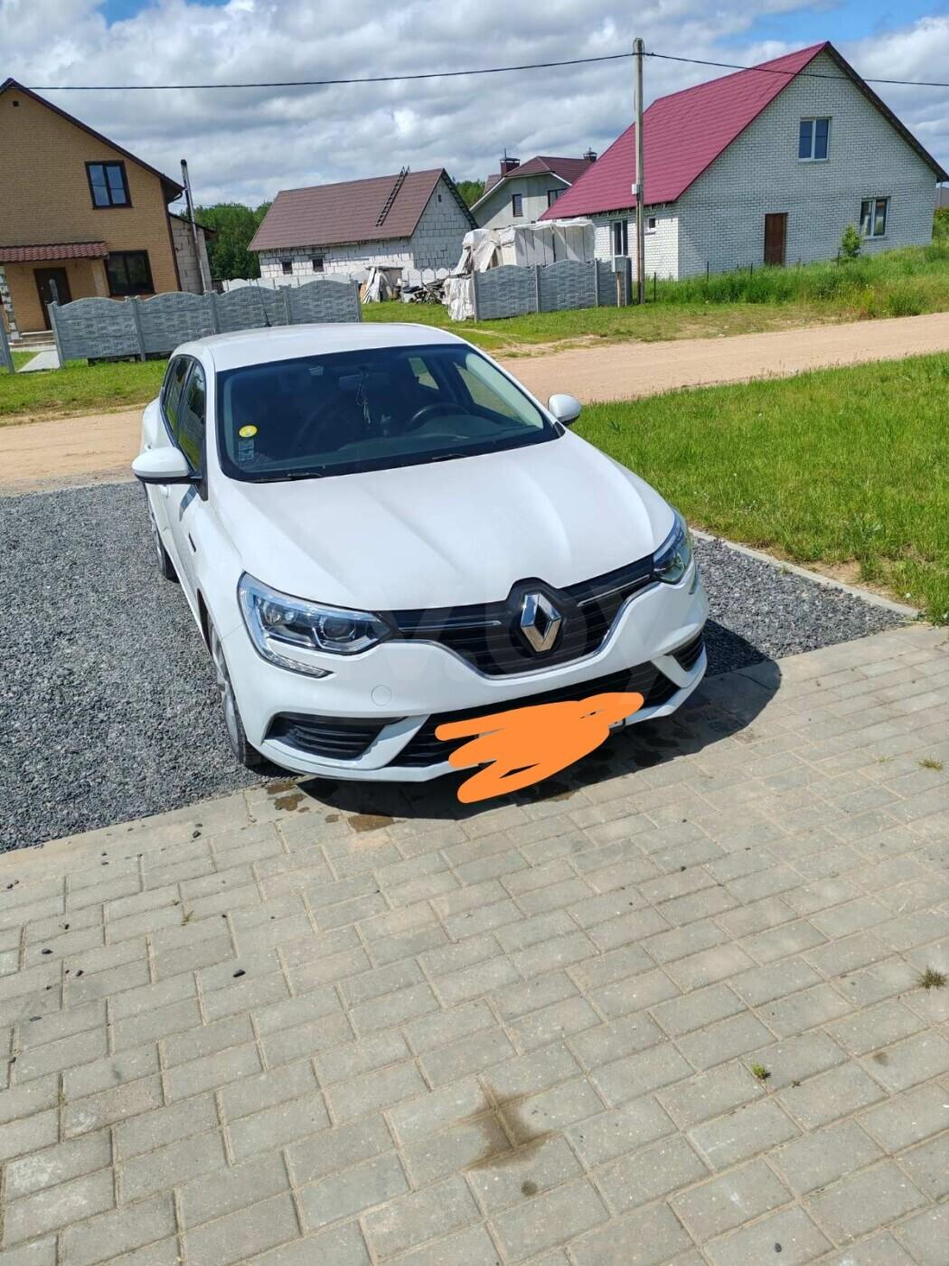Megane_2016-2020: (128, 316, 725, 790)
